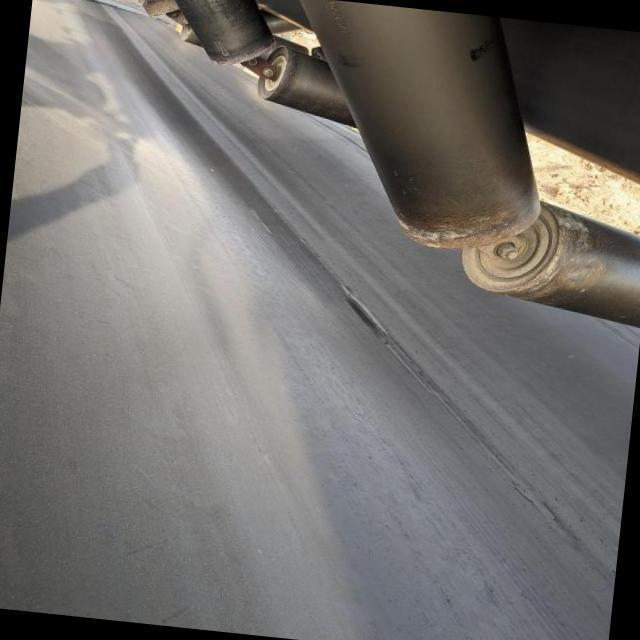Impact Damage: (337, 280, 394, 345)
